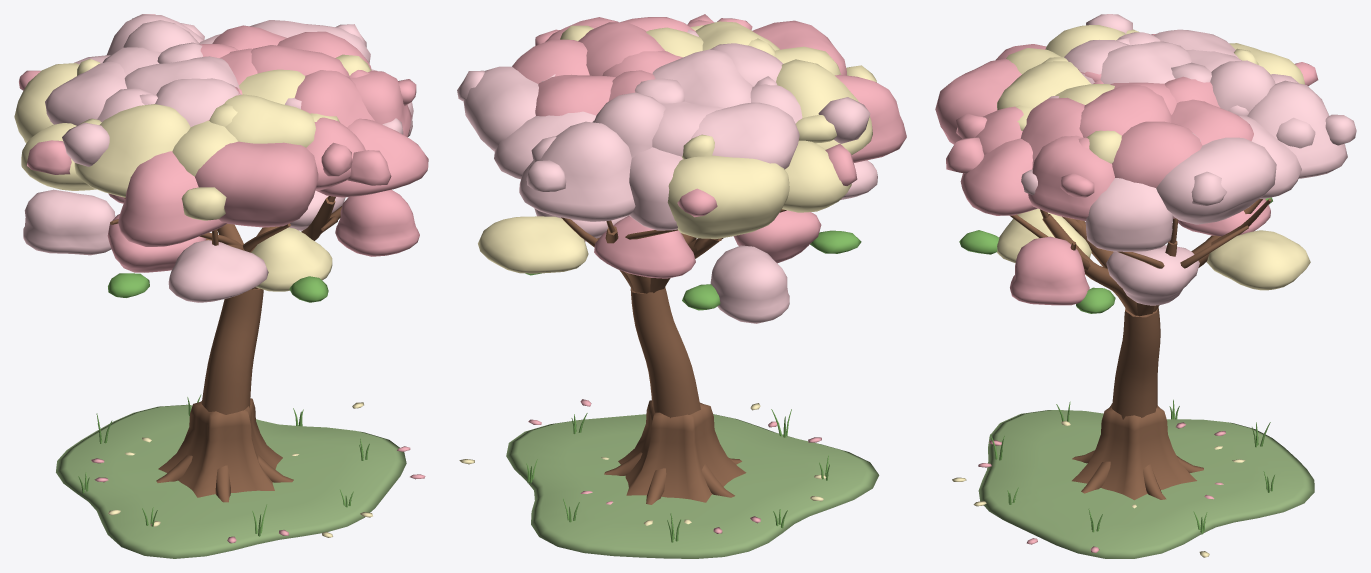
The model's file is decor-cherry-tree.glb.
3 renders of one model, left to right at view 1: azimuth 30°, elevation 25°; view 2: azimuth 150°, elevation 25°; view 3: azimuth 270°, elevation 25°, orthographic. The views are drawn at different scales.
Visible parts, largest first — view 1: cherry-tree-pink.002, cherry-tree-moss.002, cherry-tree-blossom.002, cherry-tree-cream.002, cherry-tree-bark.002, cherry-tree-leaf.002; view 2: cherry-tree-blossom.002, cherry-tree-moss.002, cherry-tree-cream.002, cherry-tree-pink.002, cherry-tree-bark.002, cherry-tree-leaf.002; view 3: cherry-tree-pink.002, cherry-tree-blossom.002, cherry-tree-moss.002, cherry-tree-bark.002, cherry-tree-cream.002, cherry-tree-leaf.002.
Part boxes in pixels (box(x1,y1,x2,y2)): cherry-tree-pink.002: box(19, 25, 428, 543); cherry-tree-moss.002: box(56, 404, 406, 558); cherry-tree-blossom.002: box(23, 14, 413, 302); cherry-tree-cream.002: box(14, 54, 372, 537); cherry-tree-bark.002: box(110, 196, 341, 502); cherry-tree-leaf.002: box(78, 273, 369, 536); cherry-tree-blossom.002: box(457, 29, 877, 323); cherry-tree-moss.002: box(506, 414, 879, 558); cherry-tree-cream.002: box(459, 21, 876, 525); cherry-tree-pink.002: box(512, 14, 906, 533); cherry-tree-bark.002: box(561, 209, 786, 504); cherry-tree-leaf.002: box(525, 230, 861, 542); cherry-tree-pink.002: box(935, 34, 1318, 552); cherry-tree-blossom.002: box(1021, 14, 1356, 305); cherry-tree-moss.002: box(978, 410, 1314, 558); cherry-tree-bark.002: box(1010, 198, 1271, 500); cherry-tree-cream.002: box(952, 25, 1310, 557); cherry-tree-leaf.002: box(959, 197, 1274, 534).
Size of the model in its own units: 5.66 by 6.47 by 5.84.
